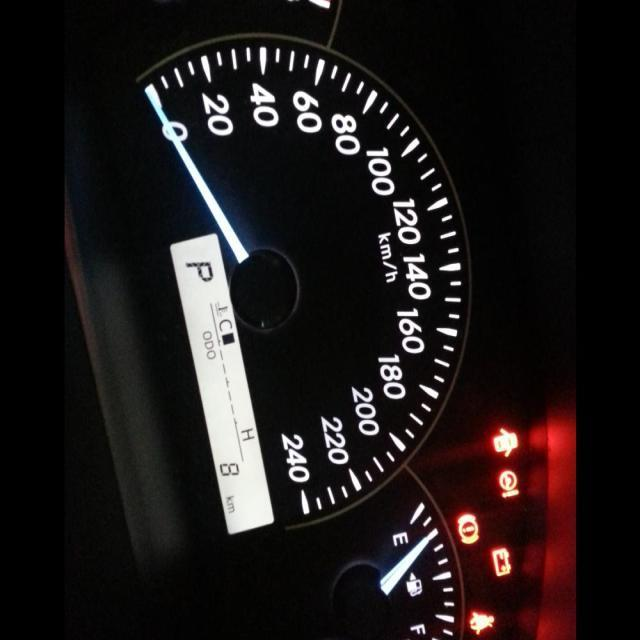Electronic Power Steering: (498, 468, 520, 498)
Seat Belt: (470, 611, 495, 632)
